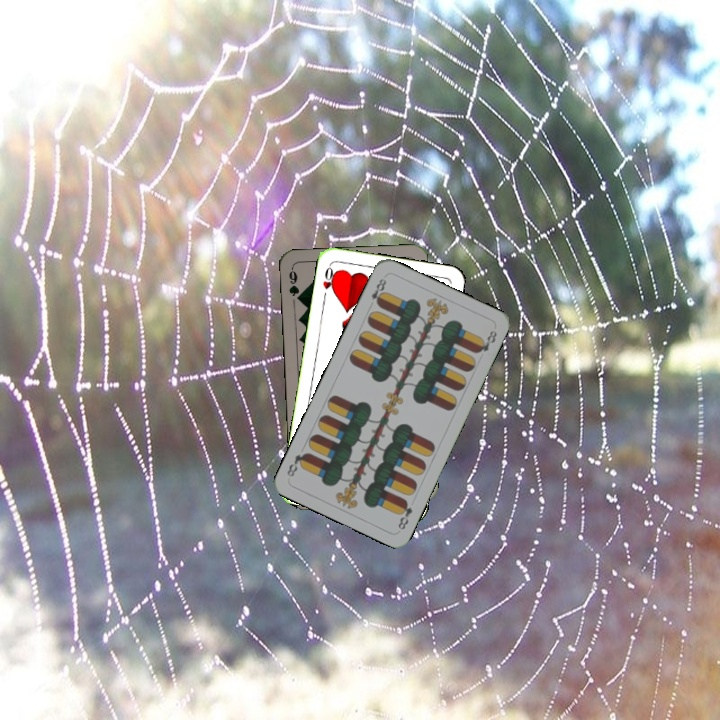E8: (394, 496, 415, 532), (367, 274, 389, 308)
G9: (285, 264, 304, 305)
HO: (318, 262, 339, 302)
